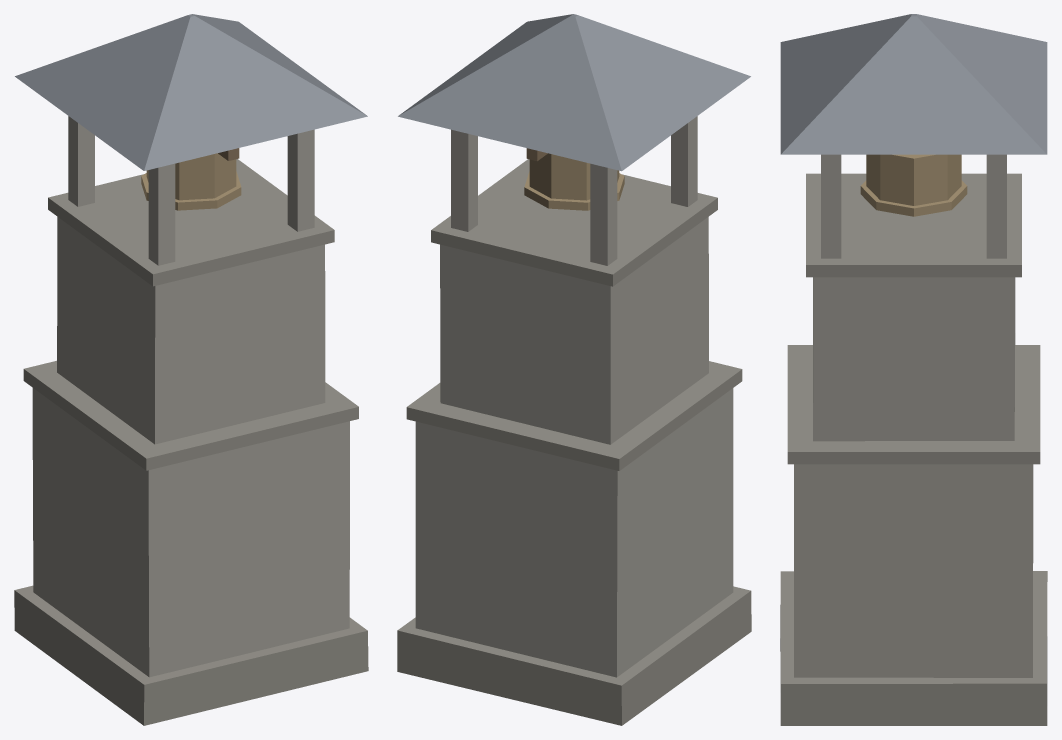
File: market_bell_tower.glb
3 renders of one model, left to right at view 1: azimuth 30°, elevation 25°; view 2: azimuth 150°, elevation 25°; view 3: azimuth 270°, elevation 25°, orthographic. The views are drawn at different scales.
Parts seen in each view (by area): view 1: market_bell_tower; view 2: market_bell_tower; view 3: market_bell_tower.
Boxes of the visible parts, bbox=[...] form: market_bell_tower: bbox=[14, 14, 368, 725]; market_bell_tower: bbox=[397, 14, 751, 725]; market_bell_tower: bbox=[780, 14, 1047, 725].
Size of the model in its own units: 2.9 by 7.85 by 2.91.
